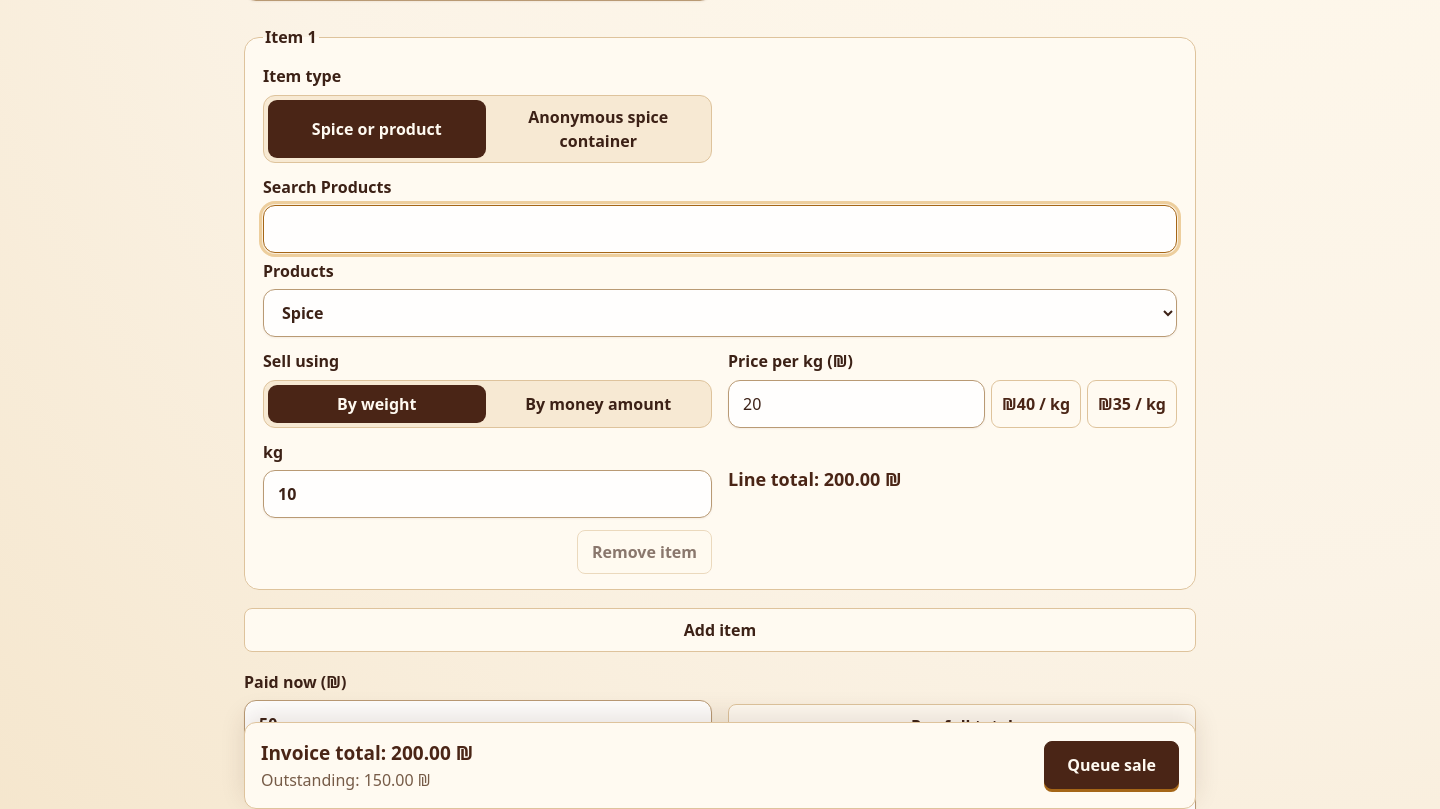
Test: quick kg price buttons update the sale line and saved draft
(page scrolled)
Click the button "₪40 / kg" at (1036, 404), box [991,380,1081,428]
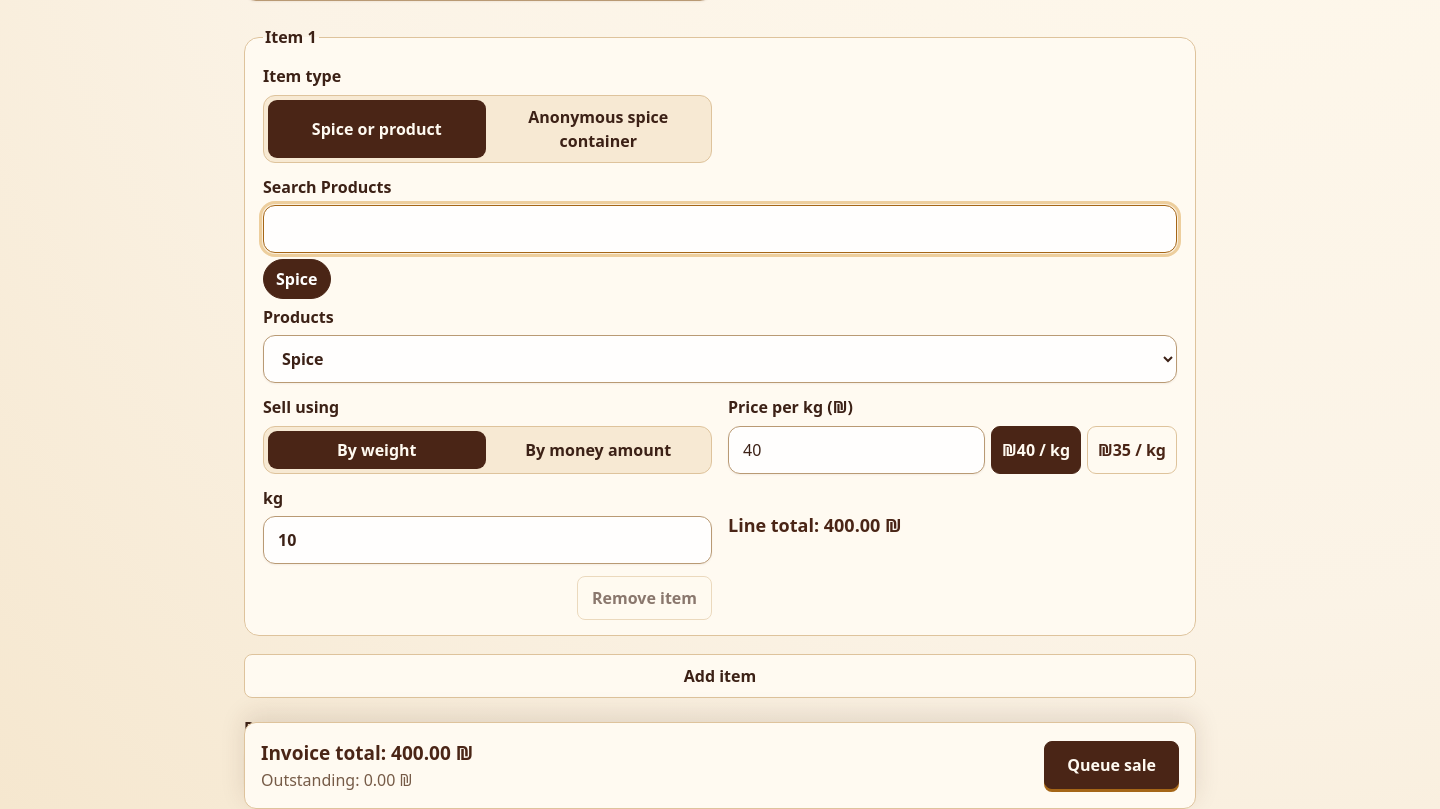
Result: the field labelled "Price per kg (₪)" holds "40" at [728,426,985,474]
Click the button "₪35 / kg" at (1132, 450), box [1087,426,1177,474]
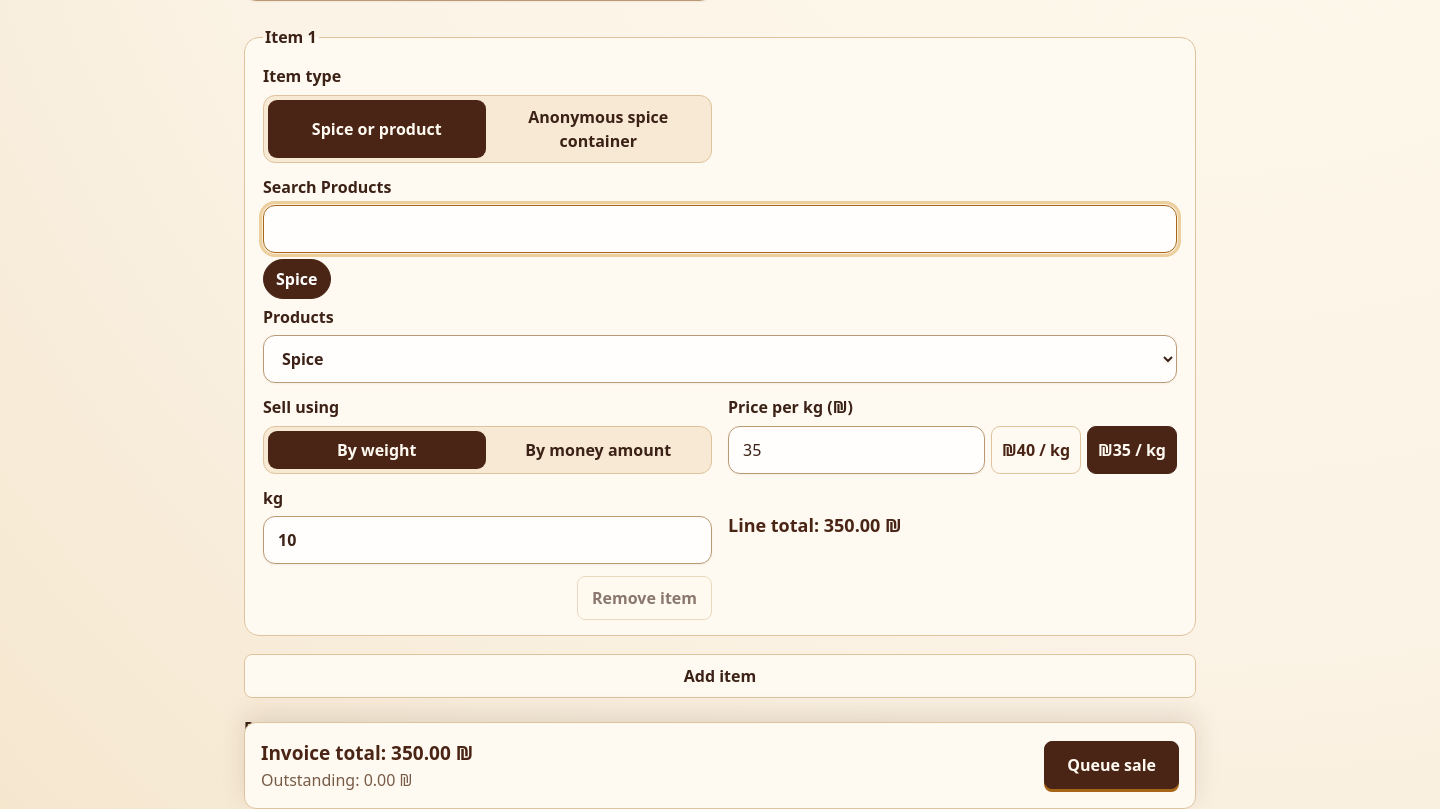
Result: the field labelled "Price per kg (₪)" holds "35" at [728,426,985,474]
